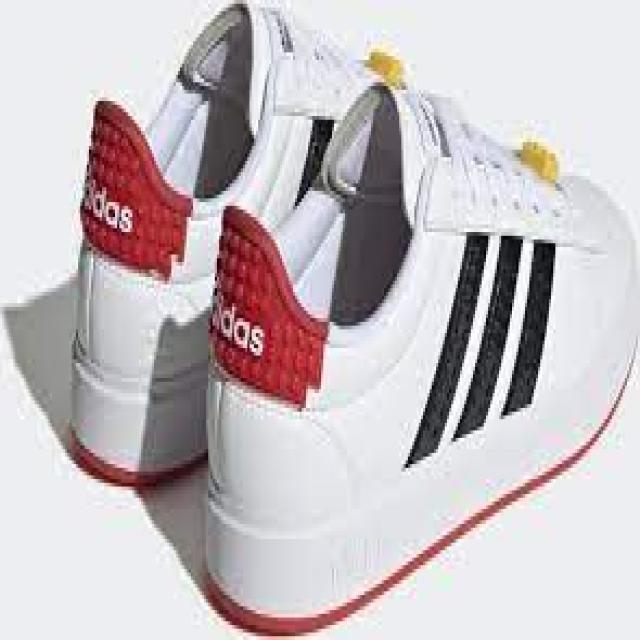shoe: (67, 0, 636, 604), (202, 78, 640, 640)
